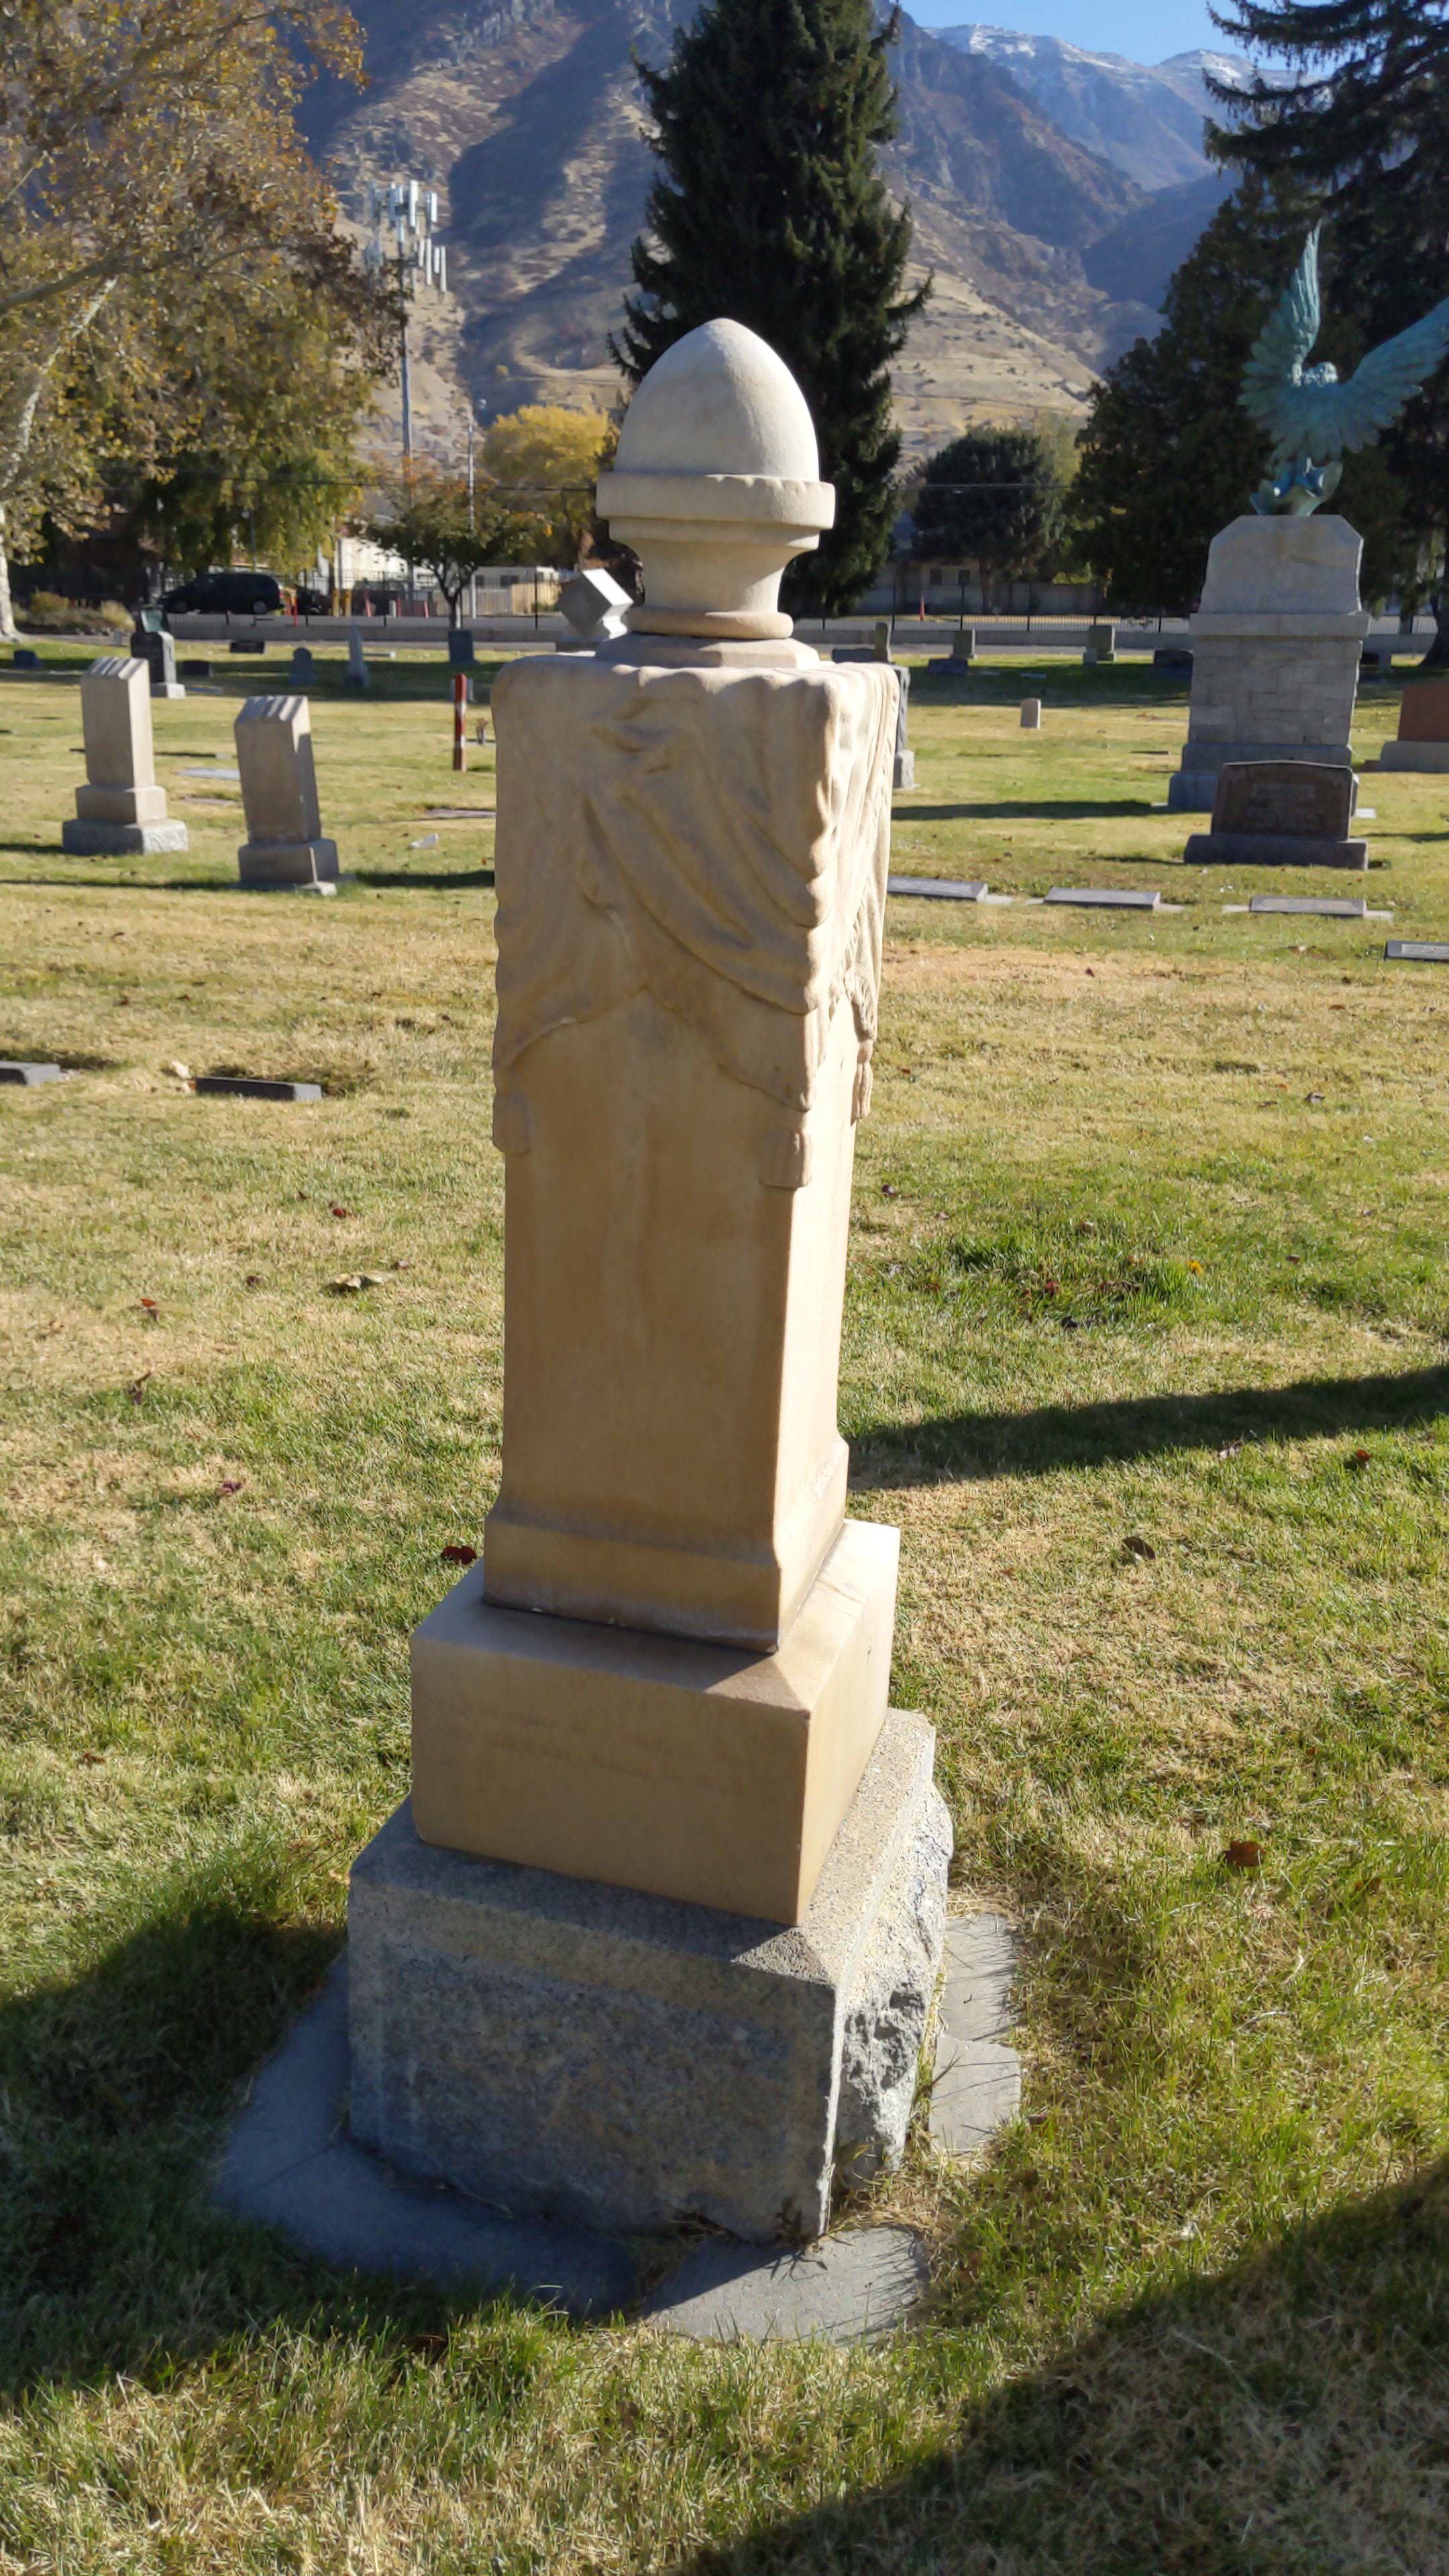obelisk: (405, 324, 902, 1923)
